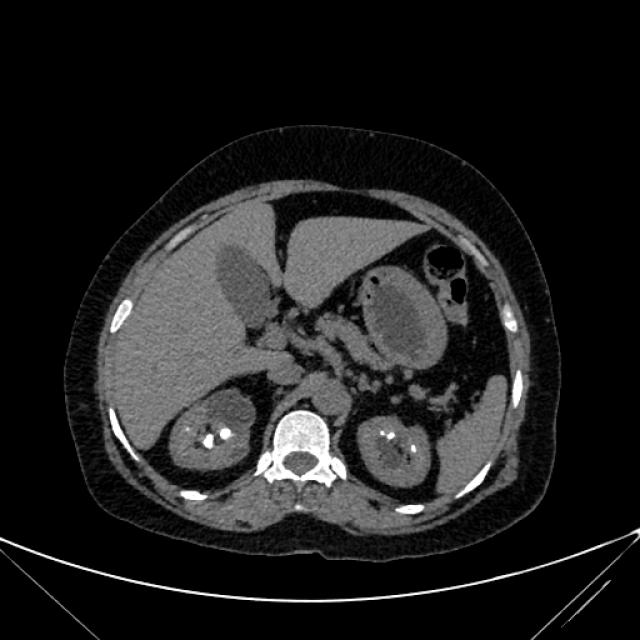kidney: (182, 403, 252, 466), (362, 422, 426, 483)
stone: (204, 436, 214, 448), (221, 429, 229, 438), (388, 433, 394, 438), (412, 446, 415, 452), (381, 432, 384, 435)
